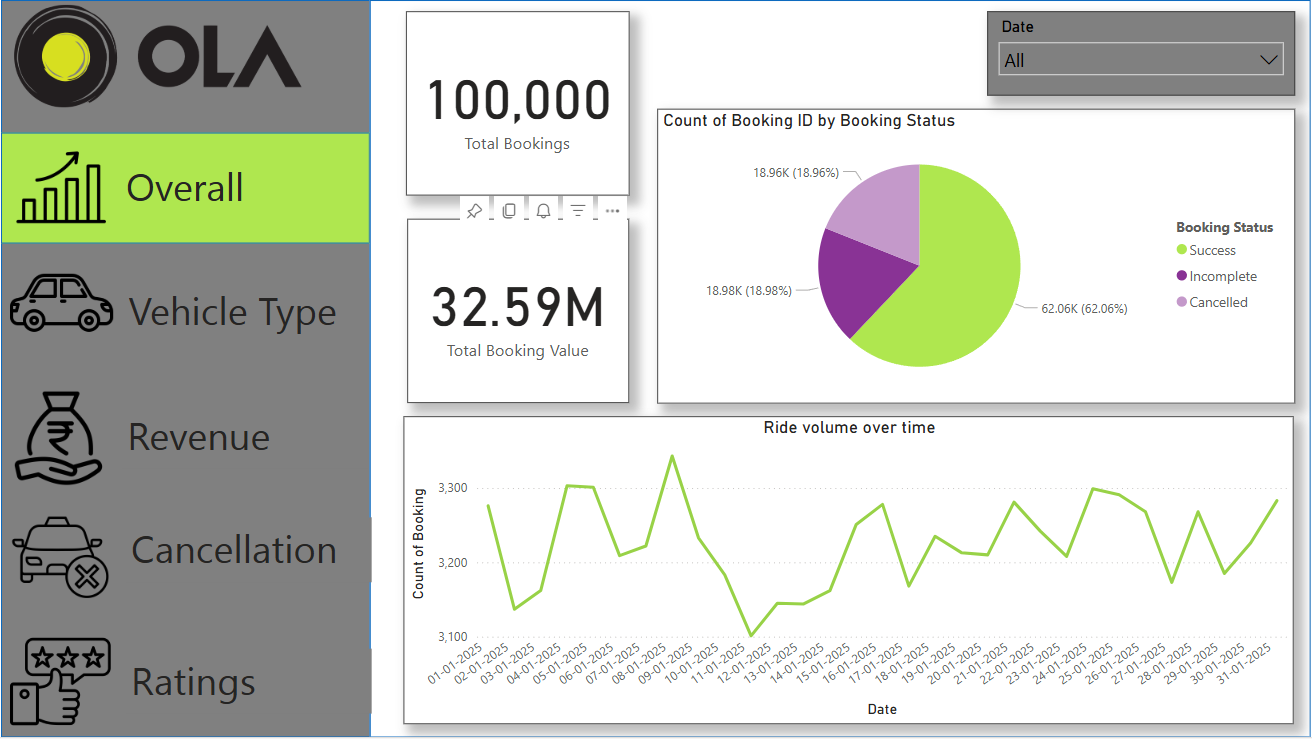

This screenshot's page, from the dashboard's own definition file:
{"tool":"powerbi","page":{"name":"Overall","canvas":[1280,720],"ordinal":0},"visuals":[{"type":"shape","box":[0,0,360.9,720.4],"z":0},{"type":"image","title":"logo","box":[0,0,306.5,109.7],"z":1000},{"type":"shape","box":[360.3,0,919.2,720.5],"z":2000},{"type":"card","fields":{"Values":["Sum(bangalore_ride_data_Jan25.Booking Value)"]},"box":[396.6,214.1,216.8,179.8],"z":3000},{"type":"slicer","fields":{"Values":["bangalore_ride_data_Jan25.Date"]},"box":[963.3,11,300.5,82.3],"z":4000},{"type":"pieChart","fields":{"Category":["bangalore_ride_data_Jan25.Booking Status"],"Y":["CountNonNull(bangalore_ride_data_Jan25.Booking ID)"]},"box":[640.8,105.7,623,288.2],"z":5000},{"type":"shape","title":"Shape1","box":[0,129.4,360.3,108.5],"z":6250},{"type":"textbox","title":"Text box1","box":[117.7,151.6,240.3,62.9],"z":7500},{"type":"image","title":"Image1","box":[0,128.3,118.3,110],"z":7750},{"type":"actionButton","title":"Button1","box":[0,129.4,360.3,109.9],"z":8000},{"type":"textbox","title":"Text box2","box":[120.1,271.7,240.1,63.2],"z":9000},{"type":"image","title":"Image2","box":[0,240.1,118.5,110.6],"z":10000},{"type":"actionButton","title":"Button2","box":[0,240.1,360.2,110.6],"z":11000},{"type":"textbox","title":"Text box3","box":[118.5,395,240.1,63.2],"z":12000},{"type":"image","title":"Image3","box":[0,370,116.7,110],"z":13000},{"type":"actionButton","title":"Button3","box":[0,371.3,360.2,110.6],"z":14000},{"type":"textbox","title":"Text box4","box":[121.7,505.6,240.1,63.2],"z":15000},{"type":"image","title":"Image4","box":[0,490,116.7,110],"z":16000},{"type":"actionButton","title":"Button4","box":[0,481.9,360.2,110.6],"z":17000},{"type":"textbox","title":"Text box5","box":[121.7,633.5,240.1,63.2],"z":18000},{"type":"image","title":"Image5","box":[0,611.3,116.1,108.1],"z":19000},{"type":"actionButton","title":"Button5","box":[0,609.8,360.2,110.6],"z":20000},{"type":"card","fields":{"Values":["bangalore_ride_data_Jan25.Total Bookings"]},"box":[395.2,11,218.2,180],"z":21000},{"type":"lineChart","title":"Ride volume over time","fields":{"Category":["bangalore_ride_data_Jan25.Date"],"Y":["CountNonNull(bangalore_ride_data_Jan25.Booking ID)"]},"box":[393.8,406.2,870,300.5],"z":22000}]}

Visuals, with their boxes in screenshot pixels (x1, y1, x2, y2), scaled from the page's 1280x720 canvas onto the 1312x739 screenshot:
shape: bbox=(0, 0, 370, 738)
"logo" image: bbox=(0, 0, 314, 113)
shape: bbox=(369, 0, 1311, 738)
card - Sum(bangalore_ride_data_Jan25.Booking Value): bbox=(407, 220, 629, 404)
slicer - bangalore_ride_data_Jan25.Date: bbox=(987, 11, 1295, 96)
pieChart - bangalore_ride_data_Jan25.Booking Status x CountNonNull(bangalore_ride_data_Jan25.Booking ID): bbox=(657, 108, 1295, 404)
"Shape1" shape: bbox=(0, 133, 369, 244)
"Text box1" textbox: bbox=(121, 156, 367, 220)
"Image1" image: bbox=(0, 132, 121, 245)
"Button1" actionButton: bbox=(0, 133, 369, 246)
"Text box2" textbox: bbox=(123, 279, 369, 344)
"Image2" image: bbox=(0, 246, 121, 360)
"Button2" actionButton: bbox=(0, 246, 369, 360)
"Text box3" textbox: bbox=(121, 405, 368, 470)
"Image3" image: bbox=(0, 380, 120, 493)
"Button3" actionButton: bbox=(0, 381, 369, 495)
"Text box4" textbox: bbox=(125, 519, 371, 584)
"Image4" image: bbox=(0, 503, 120, 616)
"Button4" actionButton: bbox=(0, 495, 369, 608)
"Text box5" textbox: bbox=(125, 650, 371, 715)
"Image5" image: bbox=(0, 627, 119, 738)
"Button5" actionButton: bbox=(0, 626, 369, 738)
card - bangalore_ride_data_Jan25.Total Bookings: bbox=(405, 11, 629, 196)
"Ride volume over time" lineChart: bbox=(404, 417, 1295, 725)
